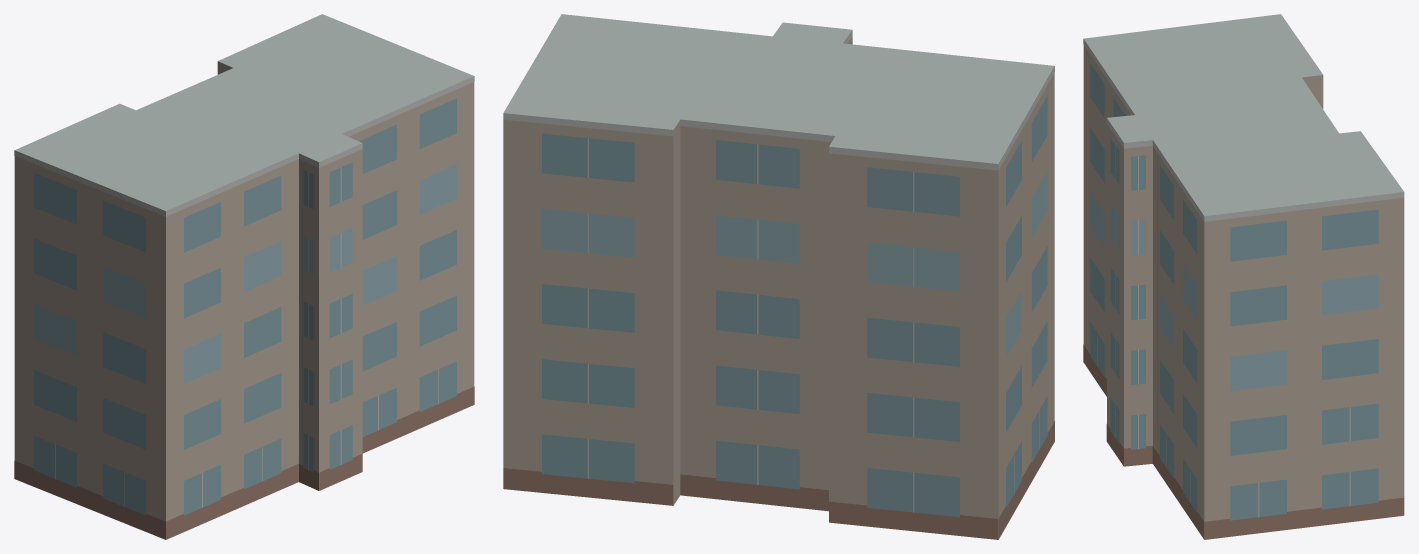
Rendered from survey-upis-32977271.glb.
The picture shows the model from 3 angles, left to right: view 1: azimuth 30°, elevation 25°; view 2: azimuth 150°, elevation 25°; view 3: azimuth 270°, elevation 25°; orthographic projection. The views are drawn at different scales.
Parts seen in each view (by area): view 1: survey-upis-32977271.tmp; view 2: survey-upis-32977271.tmp; view 3: survey-upis-32977271.tmp.
Part boxes in pixels (x1,y1,x2,y2): survey-upis-32977271.tmp: (14, 14, 474, 539); survey-upis-32977271.tmp: (503, 14, 1054, 539); survey-upis-32977271.tmp: (1083, 14, 1404, 539).
Bounding box in the file's own units: 18.77 × 14 × 12.59.
